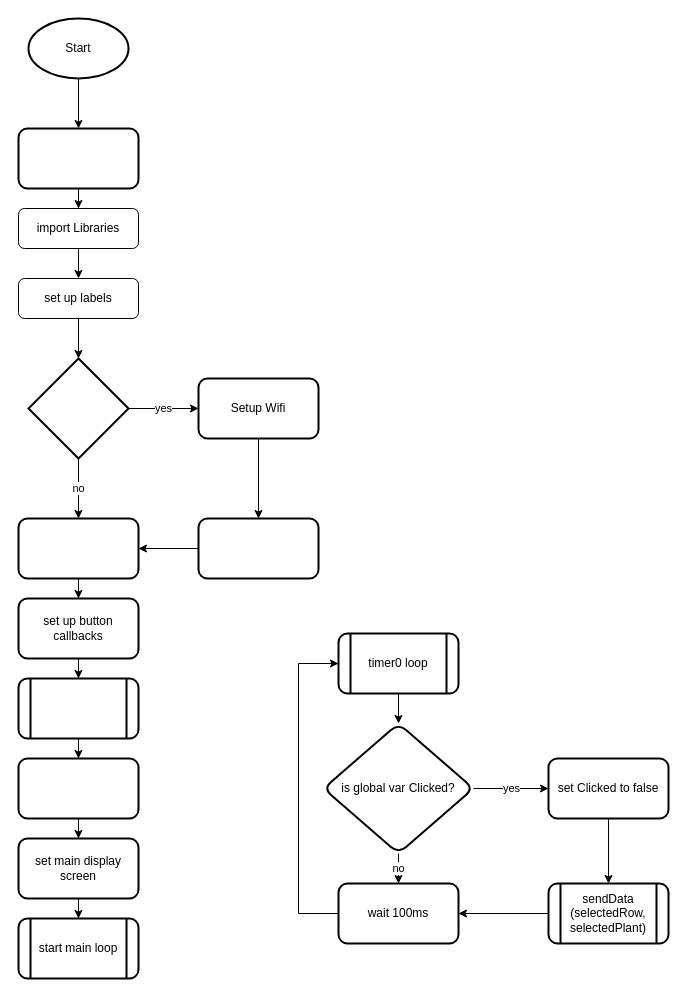
This 686x996 diagram has some shape labels left out. Here are the shapes that lost their labels. From the top down, the centre of each, then its label:
the point at 78,158: set MQTT to either True or False (set if using mqtt)
the point at 78,408: Is MQTT?
the point at 78,548: Set up ESPNow
the point at 258,548: Set up MQTT
the point at 78,708: start timer0 loop
the point at 78,788: init angle unit
